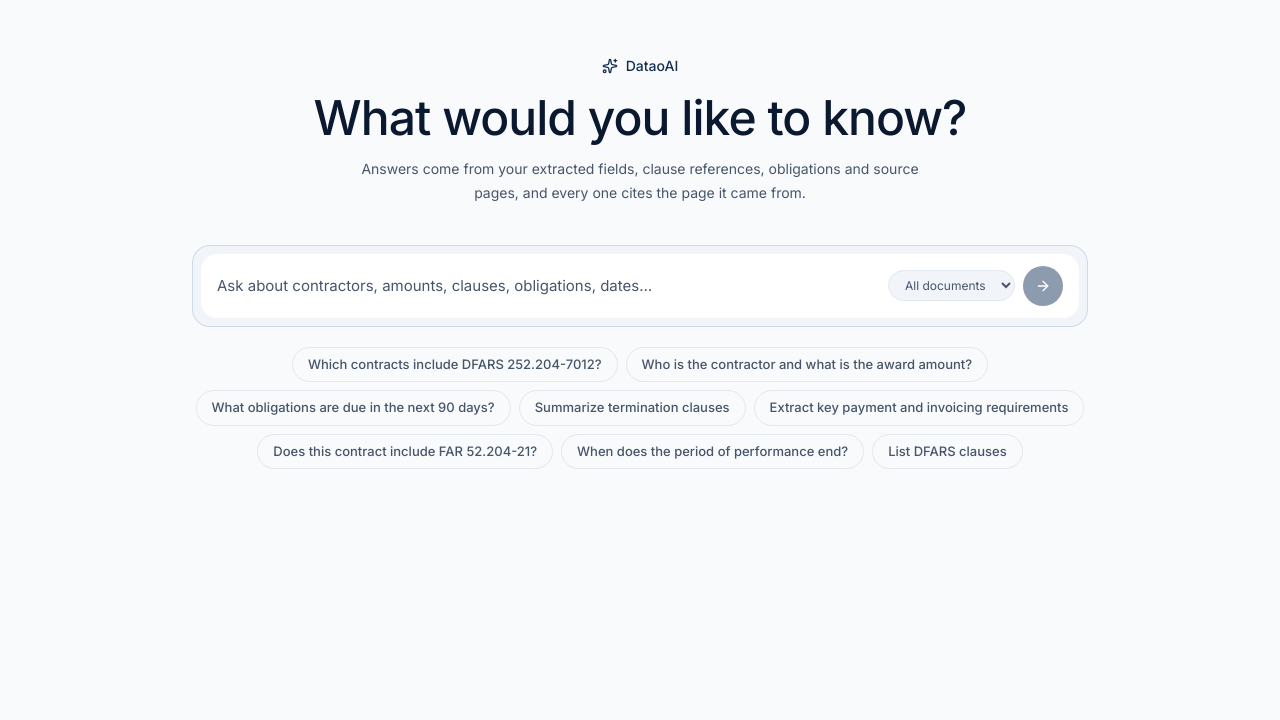
Test case: AskWorkspace › renders facts, clause matches and passages
Type "Who is the contractor?" into the field named "Question" at (548, 286), box [217,270,880,301]
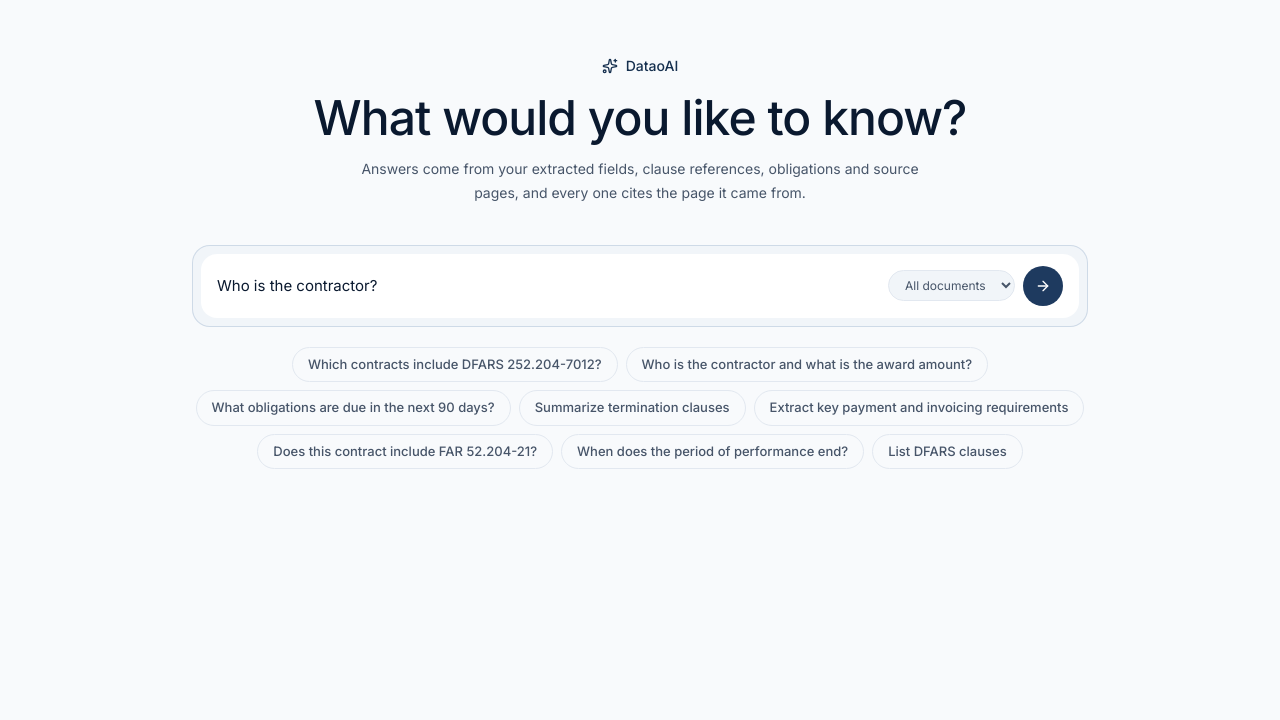
Click the button named "Ask" at (1043, 286), box [1023,266,1063,306]
(page scrolled)
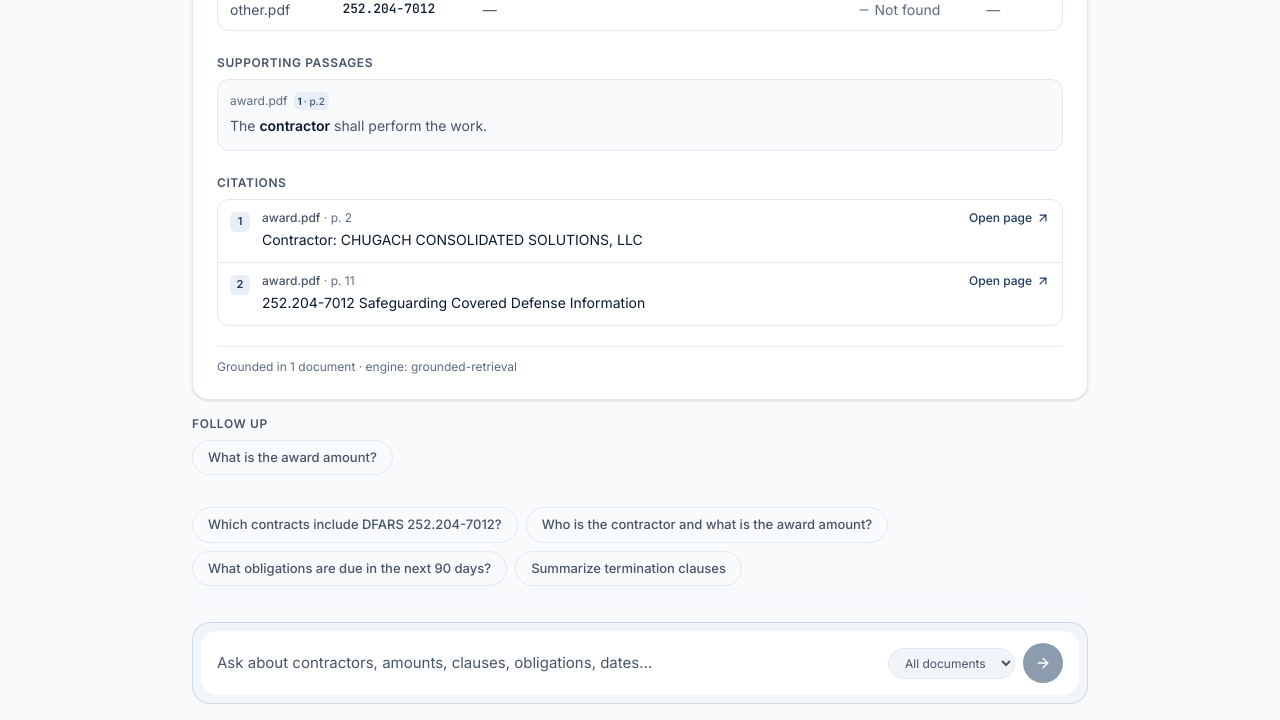
Now the text "Not found" is shown, box [856,0,940,20]
Now the text "contractor" is shown, box [259,117,330,134]
Now the text with test id "ask-footer" shows "Grounded in 1 document", box [217,346,1063,375]
